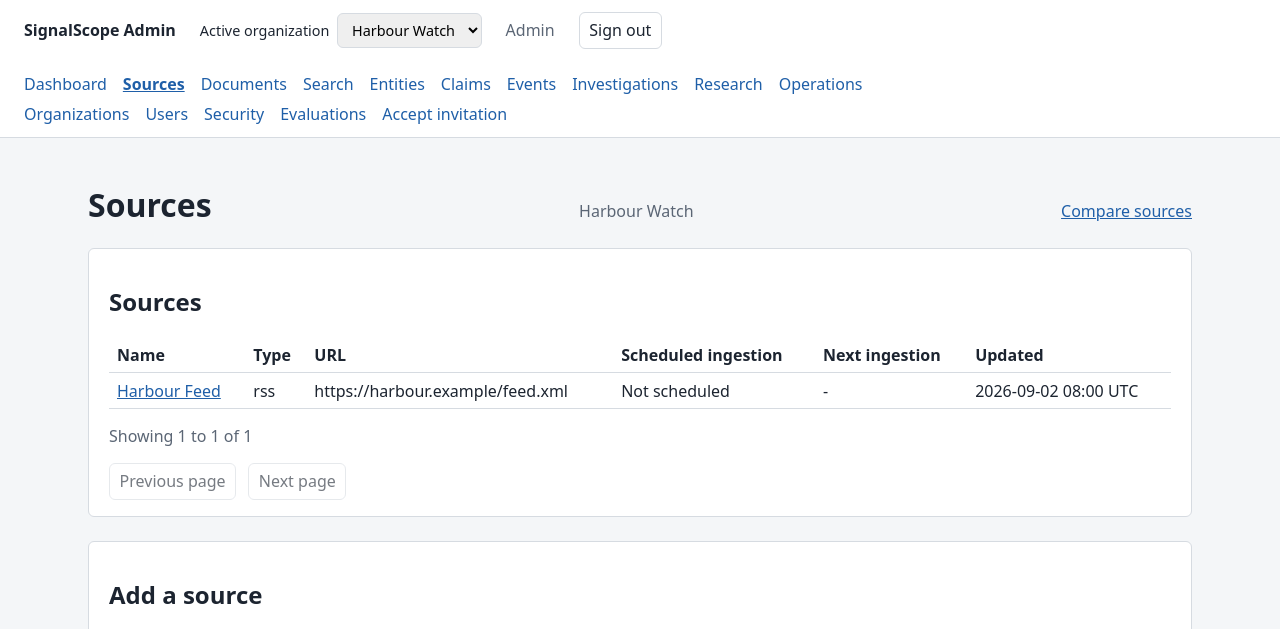
Test: source detail › is reached from the source list
Click the link "Harbour Feed": (169, 391) left=117, top=380, right=221, bottom=402
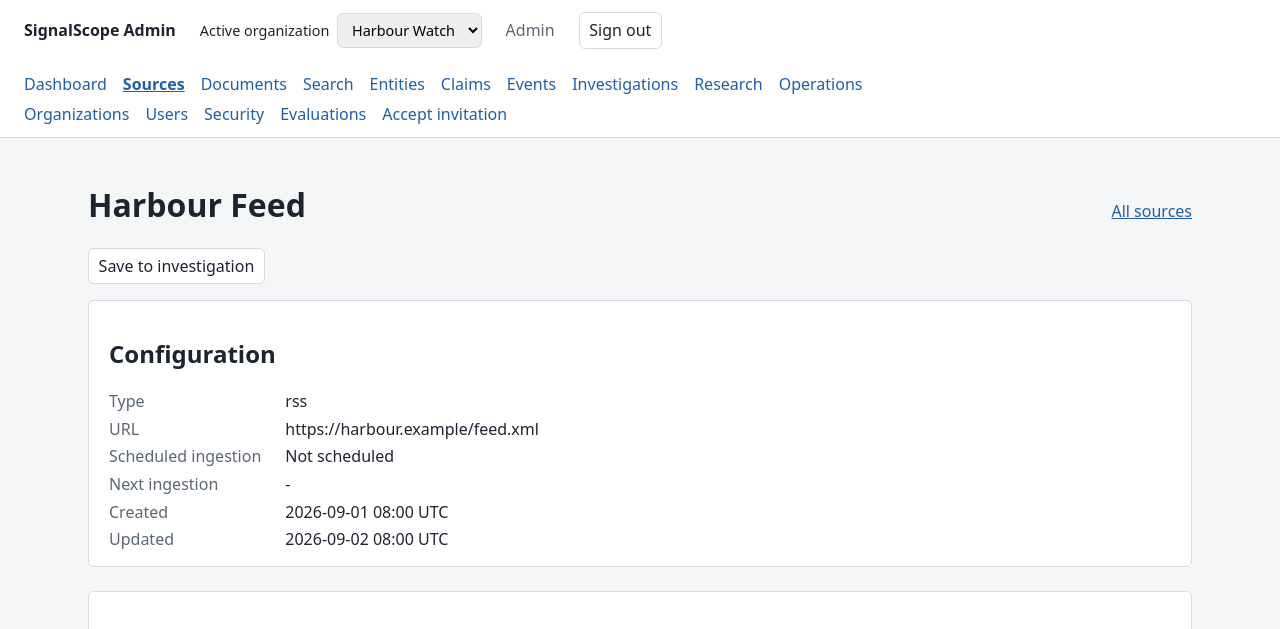
Now the element "Configuration" is shown, box left=88, top=300, right=1192, bottom=567
